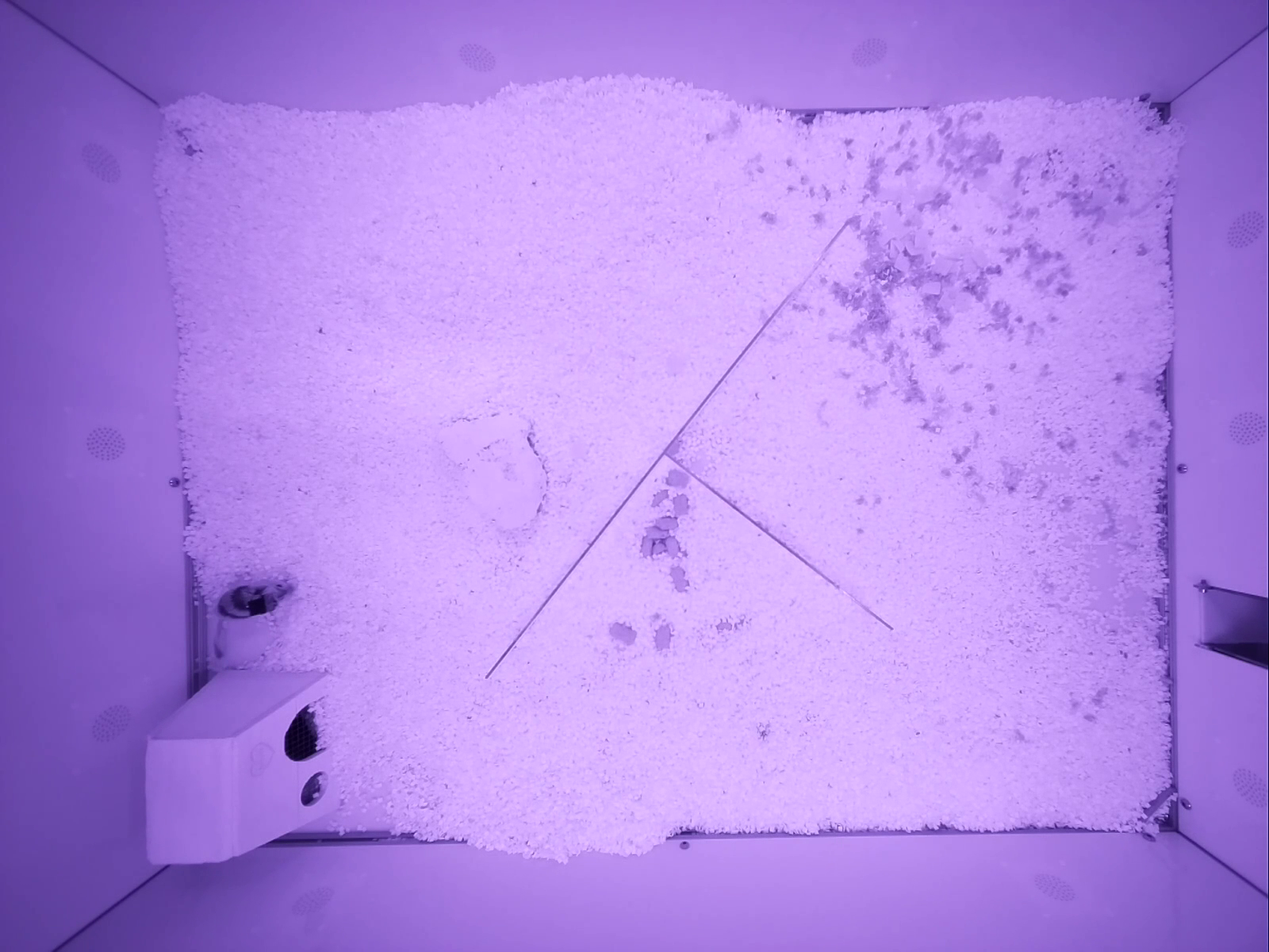adult_back: (211, 581, 293, 669)
